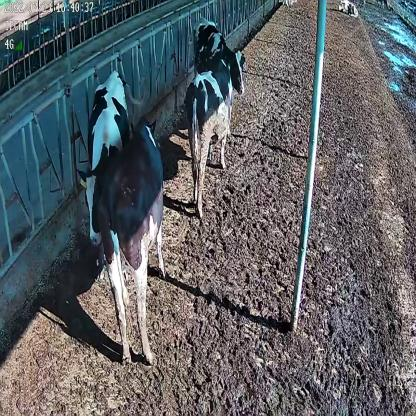cow: (96, 114, 165, 362), (75, 66, 130, 300), (184, 49, 233, 215), (192, 19, 248, 98), (337, 0, 358, 18)
